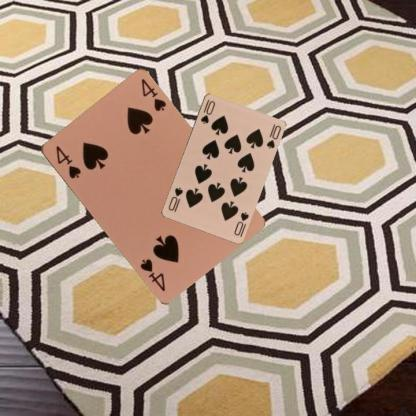10s: (198, 96, 216, 126), (231, 209, 250, 237)
4s: (53, 143, 82, 180)
